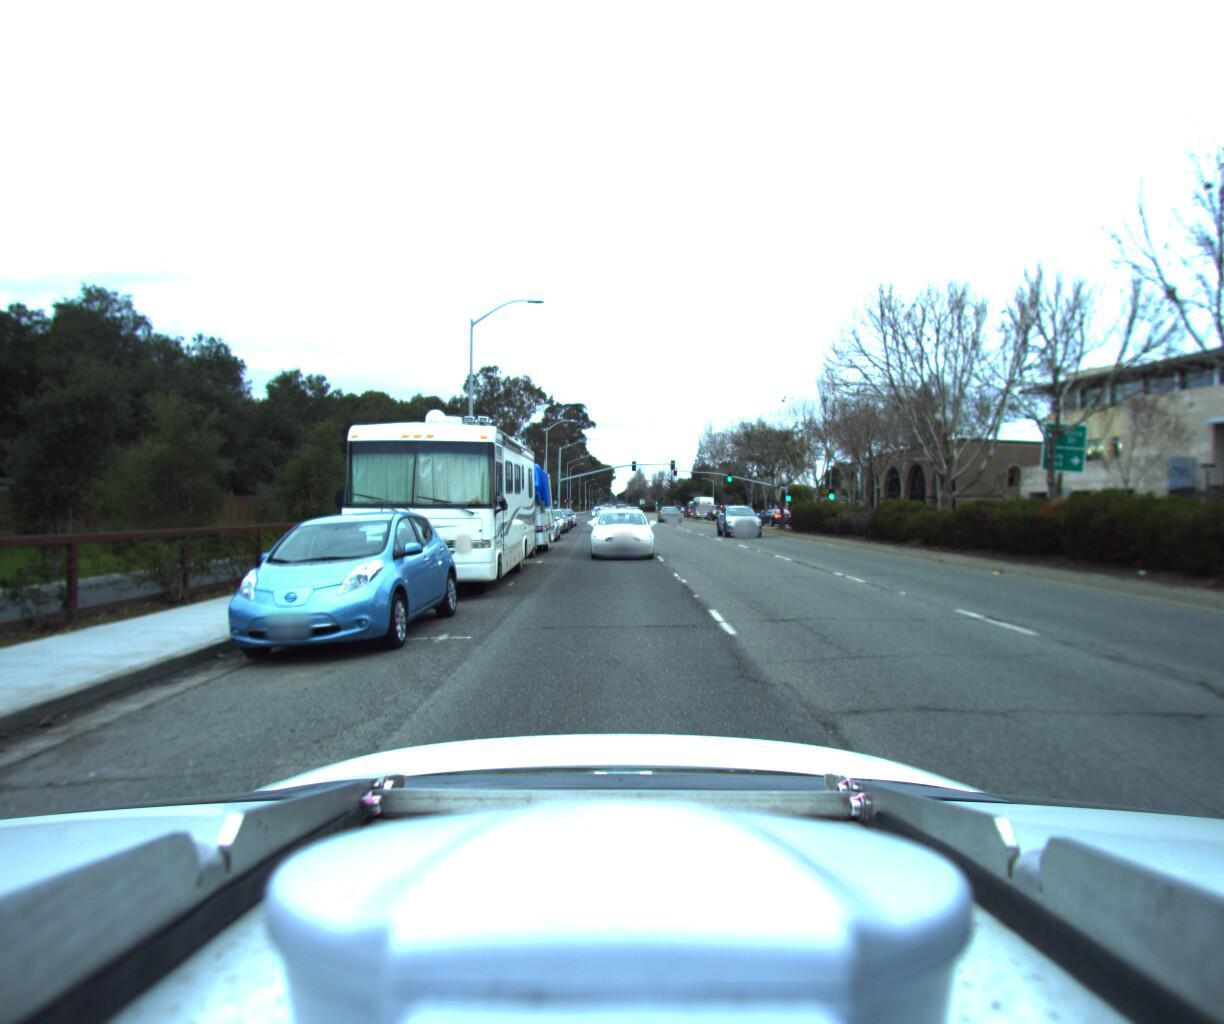car: (195, 505, 458, 679), (591, 499, 652, 555), (512, 501, 562, 537), (722, 501, 770, 536), (533, 502, 568, 528), (754, 494, 792, 518), (660, 496, 686, 515), (705, 495, 730, 513)
other_vehicle: (303, 404, 546, 597), (446, 454, 556, 553)
